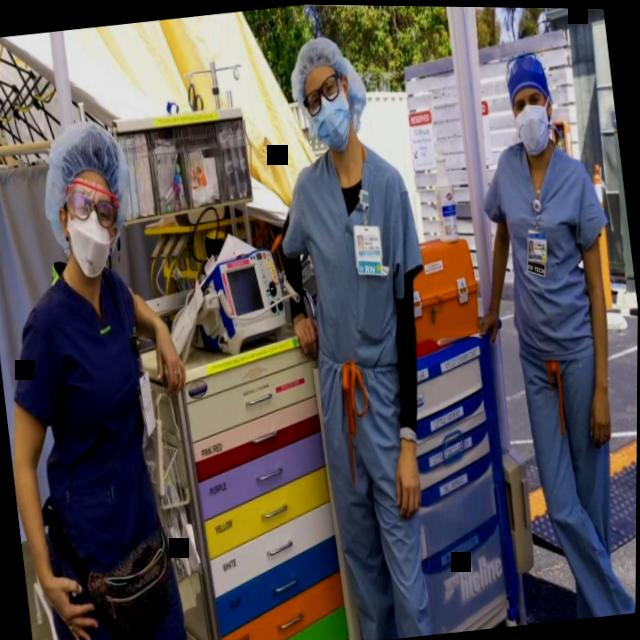Mask: (59, 169, 127, 285), (301, 61, 356, 161), (507, 77, 557, 160)
